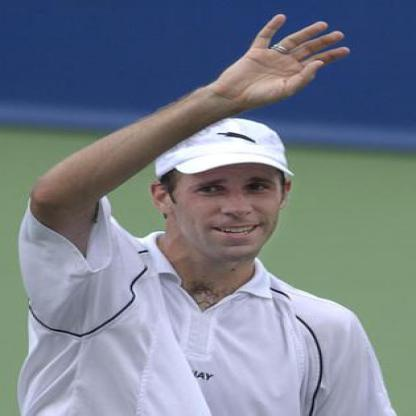face: (167, 121, 285, 266)
